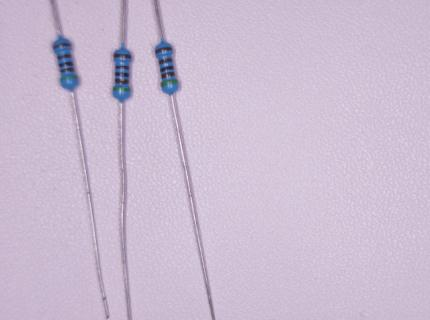Black band: (59, 61, 74, 68), (160, 65, 175, 72), (115, 72, 129, 78)
Brown band: (53, 42, 72, 49), (155, 46, 173, 53), (161, 71, 176, 79), (158, 57, 172, 65), (114, 53, 132, 59), (60, 67, 75, 74), (57, 53, 72, 60), (115, 79, 129, 85), (115, 65, 130, 70)
Green band: (161, 79, 179, 87), (60, 75, 79, 82), (113, 87, 131, 92)
